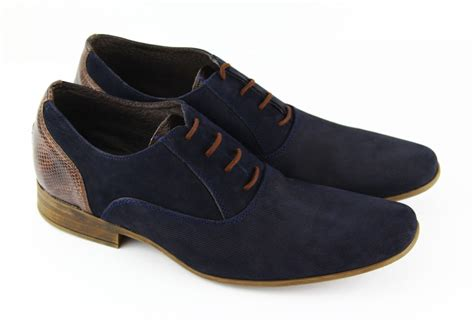gamuza: (60, 39, 438, 284)
